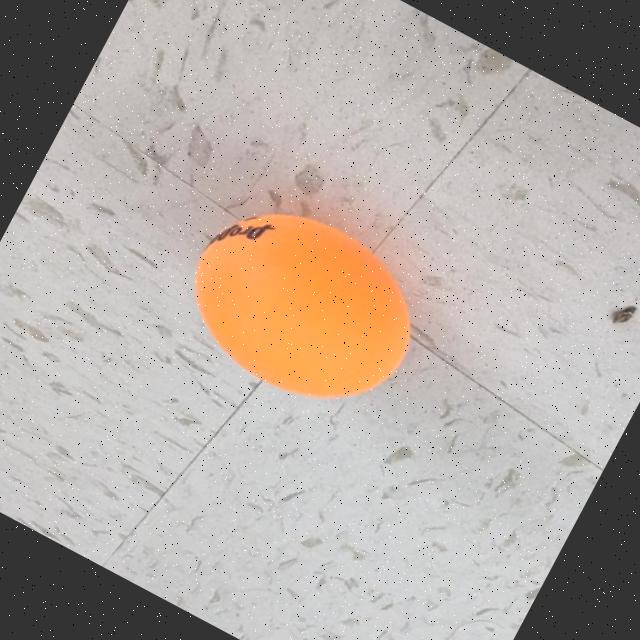ping-pong-ball: (154, 170, 447, 438)
